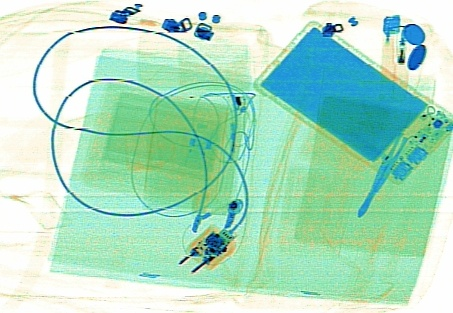lighter: (377, 11, 411, 103)
